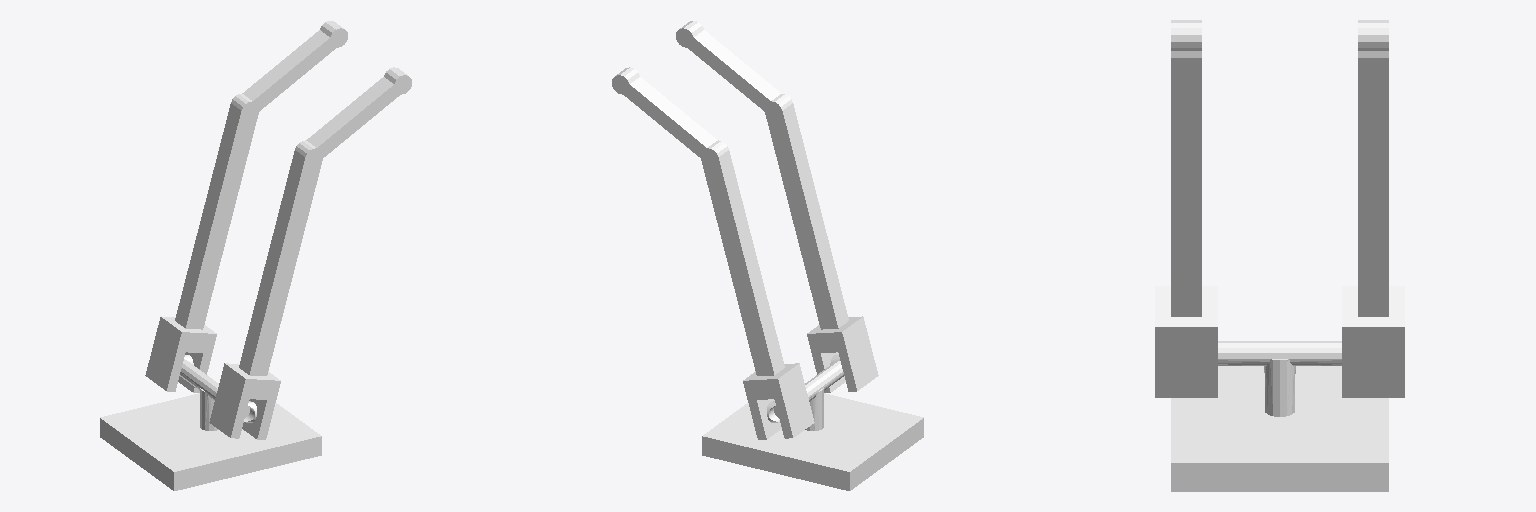
The robot description file, URDF, robot "leg-2":
<?xml version="1.0" encoding="utf-8"?>
<!-- This URDF was automatically created by SolidWorks to URDF Exporter! Originally created by [author] ([email redacted]) 
     Commit Version: 1.6.0-1-g15f4949  Build Version: 1.6.7594.29634
     For more information, please see http://wiki.ros.org/sw_urdf_exporter -->
<robot
  name="leg-2">
  <link
    name="base_link">
    <inertial>
      <origin
        xyz="-4.06369711145049E-09 -6.53076676071507E-10 0.00655119521484451"
        rpy="0 0 0" />
      <mass
        value="0.0603574048047682" />
      <inertia
        ixx="2.62795167194068E-05"
        ixy="1.08062986106813E-12"
        ixz="4.29652646551279E-12"
        iyy="3.23876165617027E-05"
        iyz="3.99812665692441E-13"
        izz="5.36673495130944E-05" />
    </inertial>
    <visual>
      <origin
        xyz="0 0 0"
        rpy="0 0 0" />
      <geometry>
        <mesh
          filename="package://leg-2/meshes/base_link.STL" />
      </geometry>
      <material
        name="">
        <color
          rgba="1 1 1 1" />
      </material>
    </visual>
    <collision>
      <origin
        xyz="0 0 0"
        rpy="0 0 0" />
      <geometry>
        <mesh
          filename="package://leg-2/meshes/base_link.STL" />
      </geometry>
    </collision>
  </link>
  <link
    name="L_L_0">
    <inertial>
      <origin
        xyz="-0.00500044767930677 -8.03686567435458E-08 -3.69876562988924E-07"
        rpy="0 0 0" />
      <mass
        value="0.00111252650071424" />
      <inertia
        ixx="5.86374551035033E-08"
        ixy="7.32232501706718E-13"
        ixz="-1.71378477470593E-12"
        iyy="1.47185849965676E-08"
        iyz="-8.00224605316878E-13"
        izz="5.70070170387329E-08" />
    </inertial>
    <visual>
      <origin
        xyz="0 0 0"
        rpy="0 0 0" />
      <geometry>
        <mesh
          filename="package://leg-2/meshes/L_L_0.STL" />
      </geometry>
      <material
        name="">
        <color
          rgba="1 1 1 1" />
      </material>
    </visual>
    <collision>
      <origin
        xyz="0 0 0"
        rpy="0 0 0" />
      <geometry>
        <mesh
          filename="package://leg-2/meshes/L_L_0.STL" />
      </geometry>
    </collision>
  </link>
  <joint
    name="J_L_0"
    type="continuous">
    <origin
      xyz="0 -0.035 0.0300000000000001"
      rpy="-0.279854049721946 0 -1.5707963267949" />
    <parent
      link="base_link" />
    <child
      link="L_L_0" />
    <axis
      xyz="1 0 0" />
  </joint>
  <link
    name="L_L_1">
    <inertial>
      <origin
        xyz="2.56739074444567E-15 0.0074999999999992 -8.04911692853238E-16"
        rpy="0 0 0" />
      <mass
        value="0.00642920367320511" />
      <inertia
        ixx="7.7370483969244E-07"
        ixy="-2.64697796016969E-23"
        ixz="-7.51703564774716E-23"
        iyy="5.72792224904781E-07"
        iyz="-5.75280396845419E-24"
        izz="8.32798685348823E-07" />
    </inertial>
    <visual>
      <origin
        xyz="0 0 0"
        rpy="0 0 0" />
      <geometry>
        <mesh
          filename="package://leg-2/meshes/L_L_1.STL" />
      </geometry>
      <material
        name="">
        <color
          rgba="1 1 1 1" />
      </material>
    </visual>
    <collision>
      <origin
        xyz="0 0 0"
        rpy="0 0 0" />
      <geometry>
        <mesh
          filename="package://leg-2/meshes/L_L_1.STL" />
      </geometry>
    </collision>
  </link>
  <joint
    name="J_L_1"
    type="continuous">
    <origin
      xyz="-0.00500000000000003 0 0"
      rpy="1.5707963267949 0 -1.5707963267949" />
    <parent
      link="L_L_0" />
    <child
      link="L_L_1" />
    <axis
      xyz="1 0 0" />
  </joint>
  <link
    name="L_L_2">
    <inertial>
      <origin
        xyz="0.0829352552189961 -0.00577871243285216 -1.04083408558608E-16"
        rpy="0 0 0" />
      <mass
        value="0.0162098836233209" />
      <inertia
        ixx="2.40381887534248E-06"
        ixy="6.16592737719074E-06"
        ixz="3.48419816267515E-22"
        iyy="3.53395888356251E-05"
        iyz="-9.33045868568433E-22"
        izz="3.74765154762597E-05" />
    </inertial>
    <visual>
      <origin
        xyz="0 0 0"
        rpy="0 0 0" />
      <geometry>
        <mesh
          filename="package://leg-2/meshes/L_L_2.STL" />
      </geometry>
      <material
        name="">
        <color
          rgba="1 1 1 1" />
      </material>
    </visual>
    <collision>
      <origin
        xyz="0 0 0"
        rpy="0 0 0" />
      <geometry>
        <mesh
          filename="package://leg-2/meshes/L_L_2.STL" />
      </geometry>
    </collision>
  </link>
  <joint
    name="J_L_2"
    type="continuous">
    <origin
      xyz="0 0.01 0"
      rpy="-3.14159265358979 0 1.5707963267949" />
    <parent
      link="L_L_1" />
    <child
      link="L_L_2" />
    <axis
      xyz="1 0 0" />
  </joint>
  <link
    name="L_R_0">
    <inertial>
      <origin
        xyz="0.00499955232069328 -8.03686492842348E-08 -3.6987656351628E-07"
        rpy="0 0 0" />
      <mass
        value="0.00111252650071424" />
      <inertia
        ixx="5.86374551035033E-08"
        ixy="7.32232501485636E-13"
        ixz="-1.71378477464577E-12"
        iyy="1.47185849965676E-08"
        iyz="-8.00224605373333E-13"
        izz="5.70070170387329E-08" />
    </inertial>
    <visual>
      <origin
        xyz="0 0 0"
        rpy="0 0 0" />
      <geometry>
        <mesh
          filename="package://leg-2/meshes/L_R_0.STL" />
      </geometry>
      <material
        name="">
        <color
          rgba="1 1 1 1" />
      </material>
    </visual>
    <collision>
      <origin
        xyz="0 0 0"
        rpy="0 0 0" />
      <geometry>
        <mesh
          filename="package://leg-2/meshes/L_R_0.STL" />
      </geometry>
    </collision>
  </link>
  <joint
    name="J_R_0"
    type="continuous">
    <origin
      xyz="0 0.0249999999999999 0.03"
      rpy="0.279854049721946 0 1.5707963267949" />
    <parent
      link="base_link" />
    <child
      link="L_R_0" />
    <axis
      xyz="1 0 0" />
  </joint>
  <link
    name="L_R_1">
    <inertial>
      <origin
        xyz="-4.87804241444678E-15 0.00749999999999895 7.63278329429795E-16"
        rpy="0 0 0" />
      <mass
        value="0.0064292036732051" />
      <inertia
        ixx="7.73704839692439E-07"
        ixy="2.24993126614424E-22"
        ixz="-1.56250248067259E-22"
        iyy="5.7279222490478E-07"
        iyz="2.13588113585916E-23"
        izz="8.32798685348821E-07" />
    </inertial>
    <visual>
      <origin
        xyz="0 0 0"
        rpy="0 0 0" />
      <geometry>
        <mesh
          filename="package://leg-2/meshes/L_R_1.STL" />
      </geometry>
      <material
        name="">
        <color
          rgba="1 1 1 1" />
      </material>
    </visual>
    <collision>
      <origin
        xyz="0 0 0"
        rpy="0 0 0" />
      <geometry>
        <mesh
          filename="package://leg-2/meshes/L_R_1.STL" />
      </geometry>
    </collision>
  </link>
  <joint
    name="J_R_1"
    type="continuous">
    <origin
      xyz="0.00500000000000005 0 0"
      rpy="1.5707963267949 0 -1.5707963267949" />
    <parent
      link="L_R_0" />
    <child
      link="L_R_1" />
    <axis
      xyz="1 0 0" />
  </joint>
  <link
    name="L_R_2">
    <inertial>
      <origin
        xyz="0.0829352552189959 0.00577871243284926 1.52655665885959E-16"
        rpy="0 0 0" />
      <mass
        value="0.0162098836233209" />
      <inertia
        ixx="2.40381887534248E-06"
        ixy="-6.16592737719073E-06"
        ixz="-6.04711054714986E-22"
        iyy="3.5339588835625E-05"
        iyz="1.07664232818176E-22"
        izz="3.74765154762597E-05" />
    </inertial>
    <visual>
      <origin
        xyz="0 0 0"
        rpy="0 0 0" />
      <geometry>
        <mesh
          filename="package://leg-2/meshes/L_R_2.STL" />
      </geometry>
      <material
        name="">
        <color
          rgba="1 1 1 1" />
      </material>
    </visual>
    <collision>
      <origin
        xyz="0 0 0"
        rpy="0 0 0" />
      <geometry>
        <mesh
          filename="package://leg-2/meshes/L_R_2.STL" />
      </geometry>
    </collision>
  </link>
  <joint
    name="J_R_2"
    type="continuous">
    <origin
      xyz="0 0.01 0"
      rpy="-3.14159265358979 0 1.5707963267949" />
    <parent
      link="L_R_1" />
    <child
      link="L_R_2" />
    <axis
      xyz="1 0 0" />
  </joint>
</robot>

--- What the picture shows (computed from the rendered views, not written in the file) ---
The picture shows the robot from 3 angles, left to right: view 1: azimuth 30°, elevation 25°; view 2: azimuth 150°, elevation 25°; view 3: azimuth 270°, elevation 25°; orthographic projection.
Robot: leg-2 — 7 links, 6 joints (6 continuous); root link base_link; default pose: every joint at zero.
Links seen in each view (by area): view 1: base_link, L_L_2, L_R_2, L_L_1, L_R_1; view 2: base_link, L_R_2, L_L_2, L_R_1, L_L_1; view 3: base_link, L_L_2, L_R_2, L_L_1, L_R_1, L_L_0, L_R_0.
Boxes of the visible links, x1=… form: base_link: x1=100, y1=359, x2=321, y2=490; L_L_2: x1=239, y1=67, x2=411, y2=375; L_R_2: x1=175, y1=21, x2=347, y2=329; L_L_1: x1=209, y1=363, x2=280, y2=439; L_R_1: x1=145, y1=316, x2=216, y2=392; base_link: x1=702, y1=359, x2=923, y2=490; L_R_2: x1=612, y1=67, x2=784, y2=375; L_L_2: x1=676, y1=21, x2=848, y2=329; L_R_1: x1=743, y1=363, x2=814, y2=439; L_L_1: x1=807, y1=316, x2=878, y2=392; base_link: x1=1171, y1=341, x2=1388, y2=491; L_L_2: x1=1171, y1=20, x2=1201, y2=316; L_R_2: x1=1358, y1=20, x2=1388, y2=316; L_L_1: x1=1155, y1=286, x2=1217, y2=397; L_R_1: x1=1342, y1=286, x2=1404, y2=397; L_L_0: x1=1171, y1=363, x2=1201, y2=385; L_R_0: x1=1358, y1=363, x2=1388, y2=385.
Bounding box of the posed robot: 0.129 × 0.08 × 0.1865 m (x, y, z).
7 mesh visuals loaded from 7 distinct referenced files (7 binary STL).